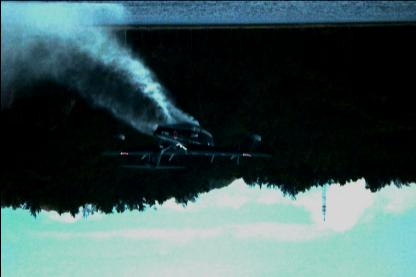Tu95: (98, 123, 270, 169)
